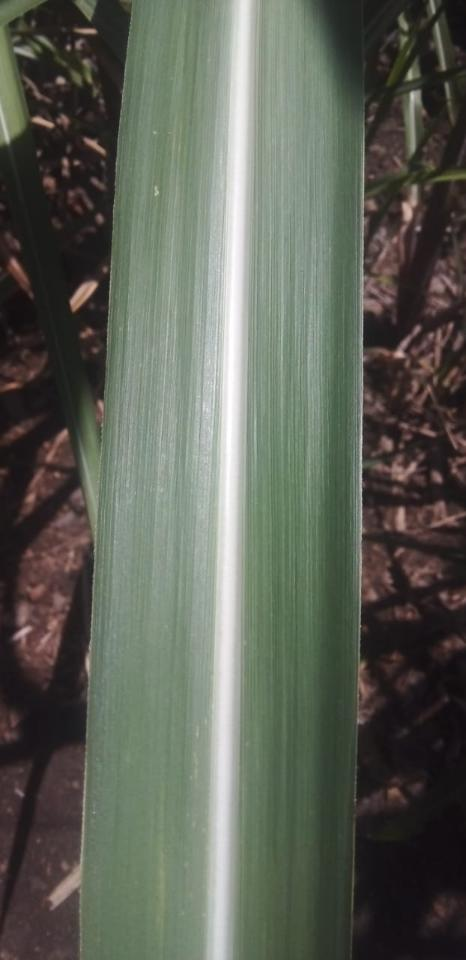Healthy: (79, 0, 365, 959)
